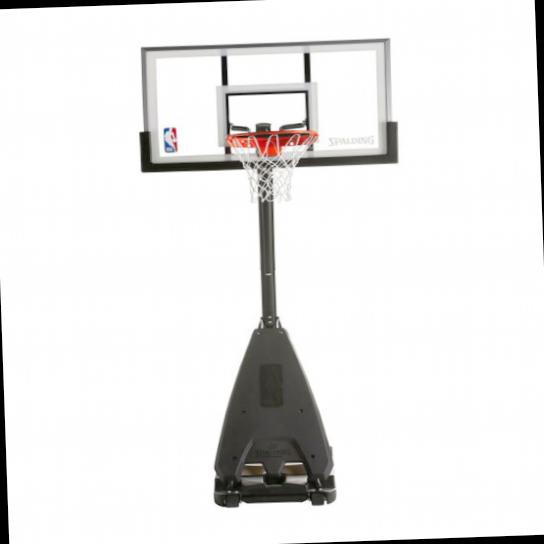basketball-hoop: (220, 126, 322, 207)
